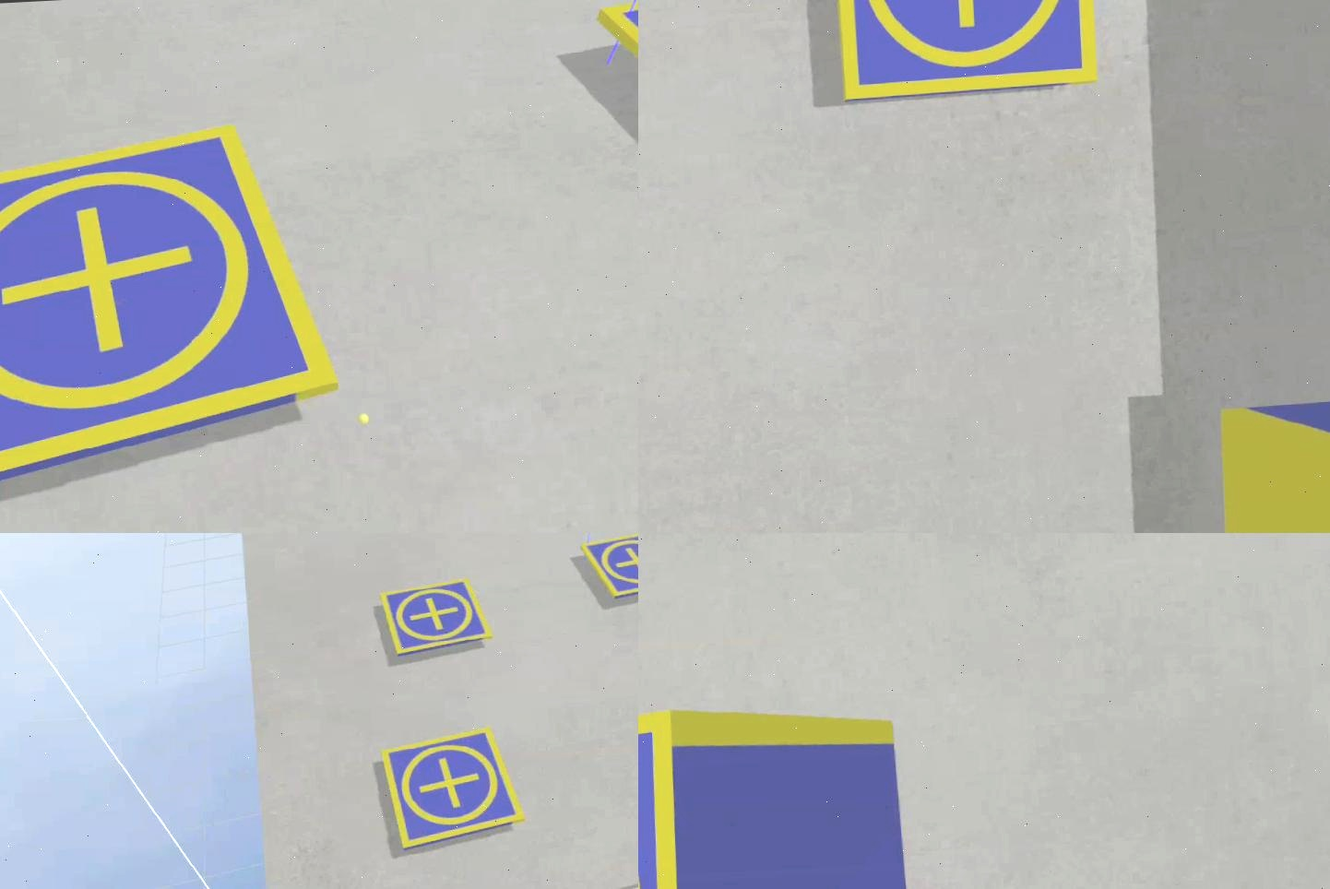small_base: (1, 118, 346, 508), (831, 1, 1100, 100), (381, 729, 523, 858), (376, 579, 493, 664), (639, 714, 693, 889), (582, 534, 639, 605)
